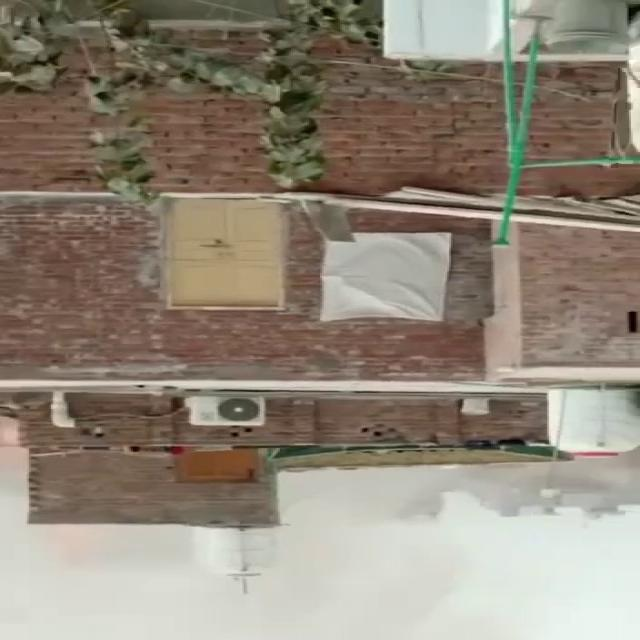Smoke: (276, 490, 575, 589)
